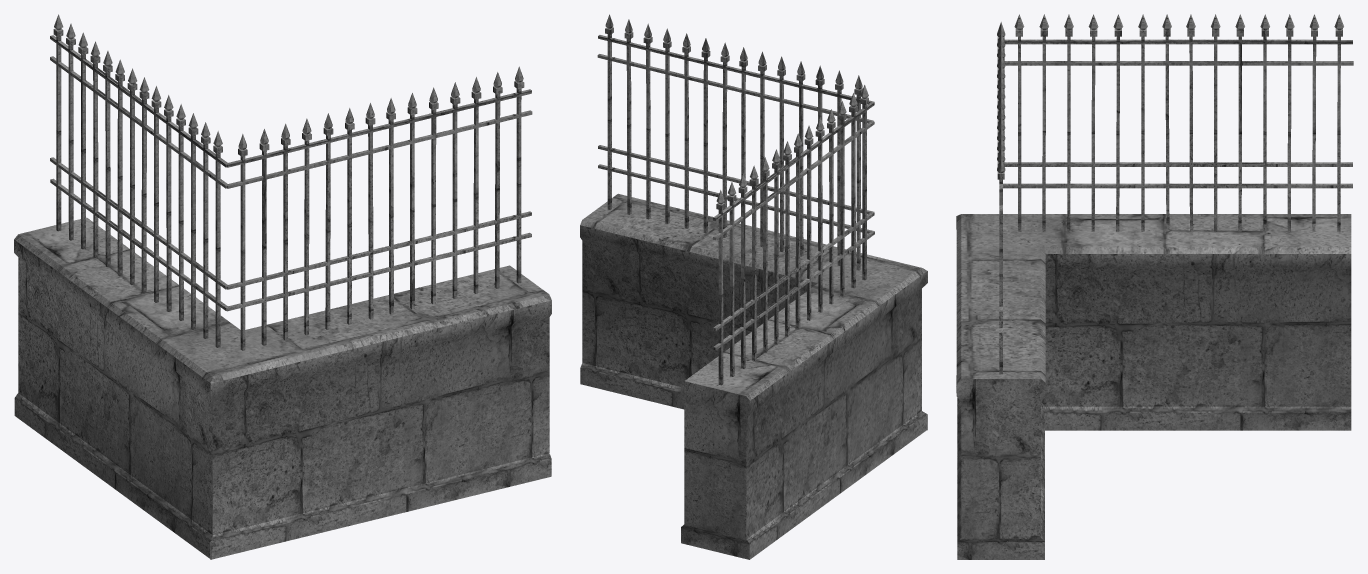
The model's file is wall fence corner.fbx.
The picture shows the model from 3 angles, left to right: view 1: azimuth 30°, elevation 25°; view 2: azimuth 150°, elevation 25°; view 3: azimuth 270°, elevation 25°; orthographic projection. The views are drawn at different scales.
Parts seen in each view (by area): view 1: Symmetry_1; view 2: Symmetry_1; view 3: Symmetry_1.
Part boxes in pixels (x1,y1,x2,y2): Symmetry_1: (14,14,551,559); Symmetry_1: (580,14,927,559); Symmetry_1: (956,14,1353,559).
Bounding box in the file's own units: 231 × 255 × 231.
Materials: 1 (1 with a texture image).
